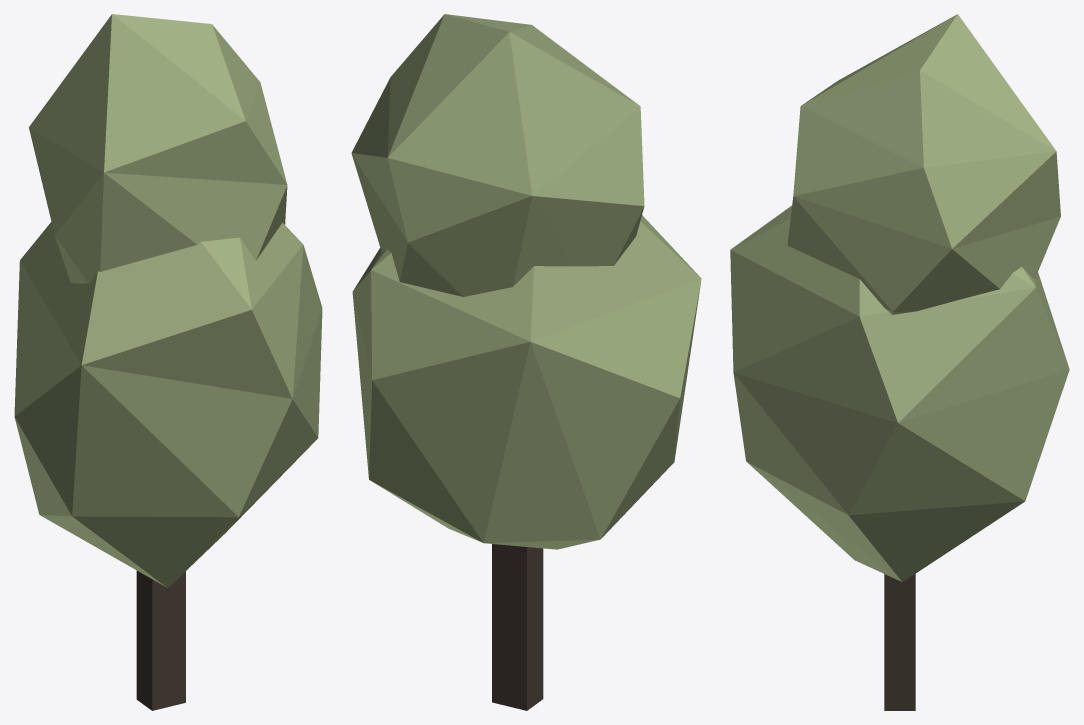
File: tree_small_2.glb
The picture shows the model from 3 angles, left to right: view 1: azimuth 30°, elevation 25°; view 2: azimuth 150°, elevation 25°; view 3: azimuth 270°, elevation 25°; orthographic projection. The views are drawn at different scales.
Parts seen in each view (by area): view 1: Tree3; view 2: Tree3; view 3: Tree3.
Part boxes in pixels (x1,y1,x2,y2): Tree3: (14, 14, 322, 710); Tree3: (351, 14, 701, 710); Tree3: (730, 14, 1069, 710).
Bounding box in the file's own units: 0.6518 × 1.34 × 0.6075.
